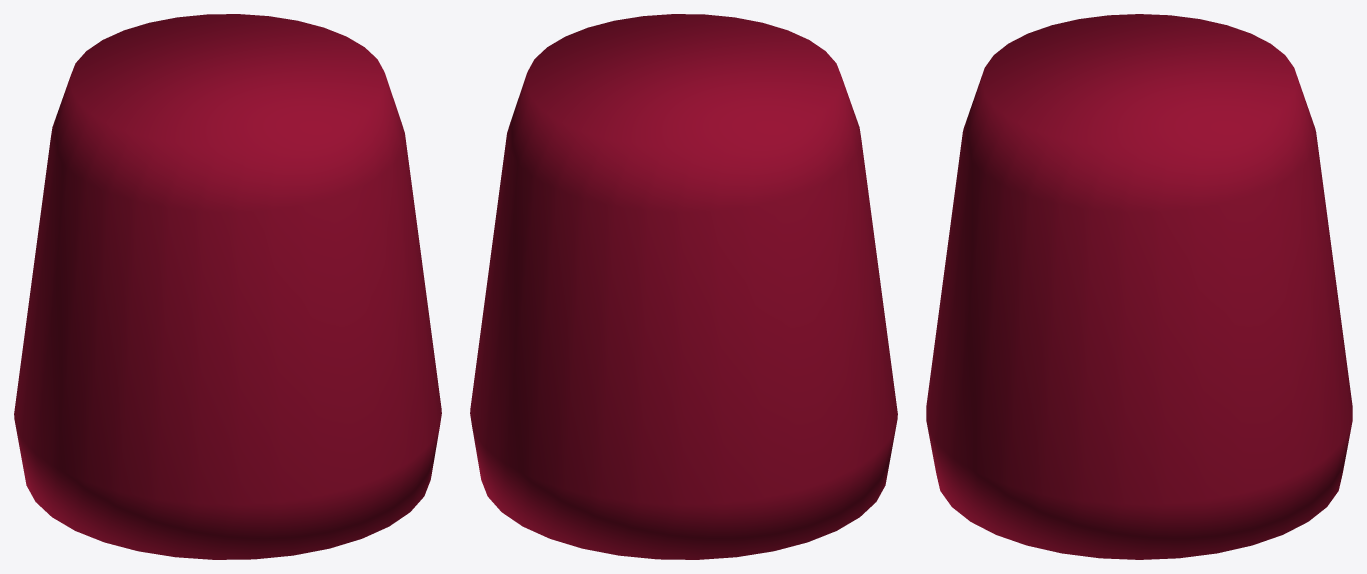
File: quo_plRed.fbx
3 views of the same model, side by side, from view 1: azimuth 30°, elevation 25°; view 2: azimuth 150°, elevation 25°; view 3: azimuth 270°, elevation 25° (orthographic).
Visible parts, largest first — view 1: 円柱; view 2: 円柱; view 3: 円柱.
Boxes of the visible parts, <box> form: 円柱: <box>14,14,441,559</box>; 円柱: <box>470,14,897,559</box>; 円柱: <box>926,14,1352,559</box>.
Bounding box in the file's own units: 0.3361 × 0.3421 × 0.3361.
